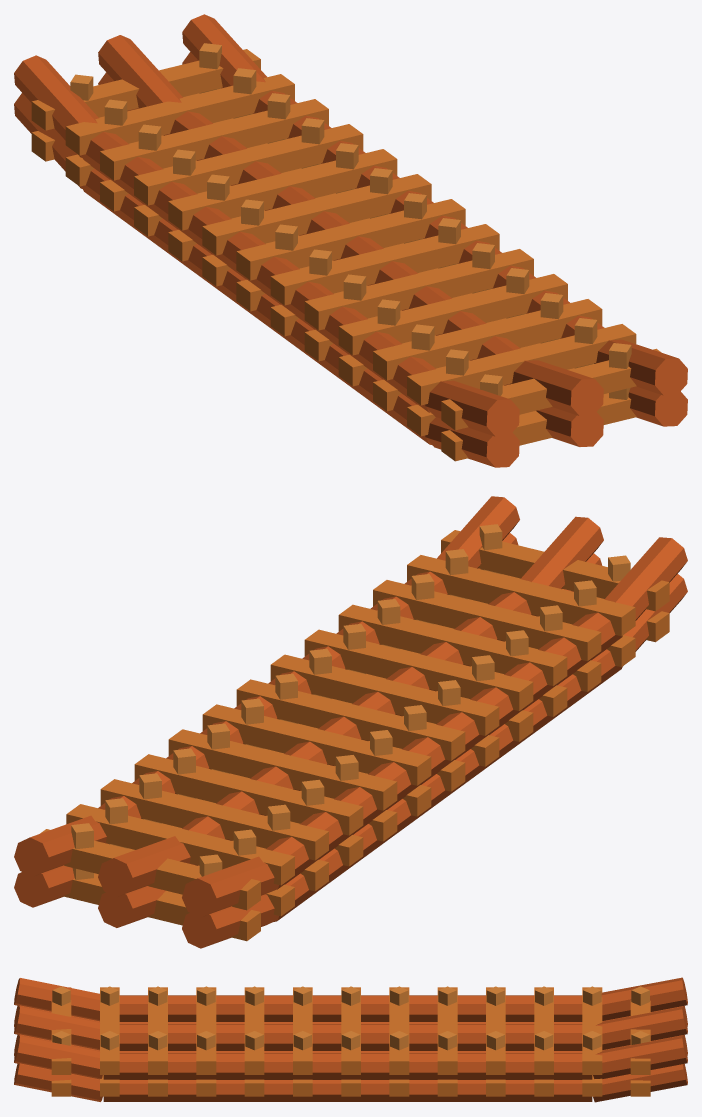
Rendered from TOOL_TractionBoards.glb.
3 renders of one model, top to bottom at view 1: azimuth 30°, elevation 25°; view 2: azimuth 150°, elevation 25°; view 3: azimuth 270°, elevation 25°, orthographic. The views are drawn at different scales.
Parts seen in each view (by area): view 1: CrossRibs, Rails, Cleats; view 2: CrossRibs, Rails, Cleats; view 3: Rails, CrossRibs, Cleats.
Part boxes in pixels (x1,y1,x2,y2): CrossRibs: (31,49,661,461); Rails: (14,14,687,467); Cleats: (70,43,631,399); CrossRibs: (40,530,669,941); Rails: (14,496,687,948); Cleats: (71,524,630,879); Rails: (14,977,687,1102); CrossRibs: (51,987,650,1096); Cleats: (52,986,649,1050).
Size of the model in its own units: 0.284 by 0.1151 by 1.09.
